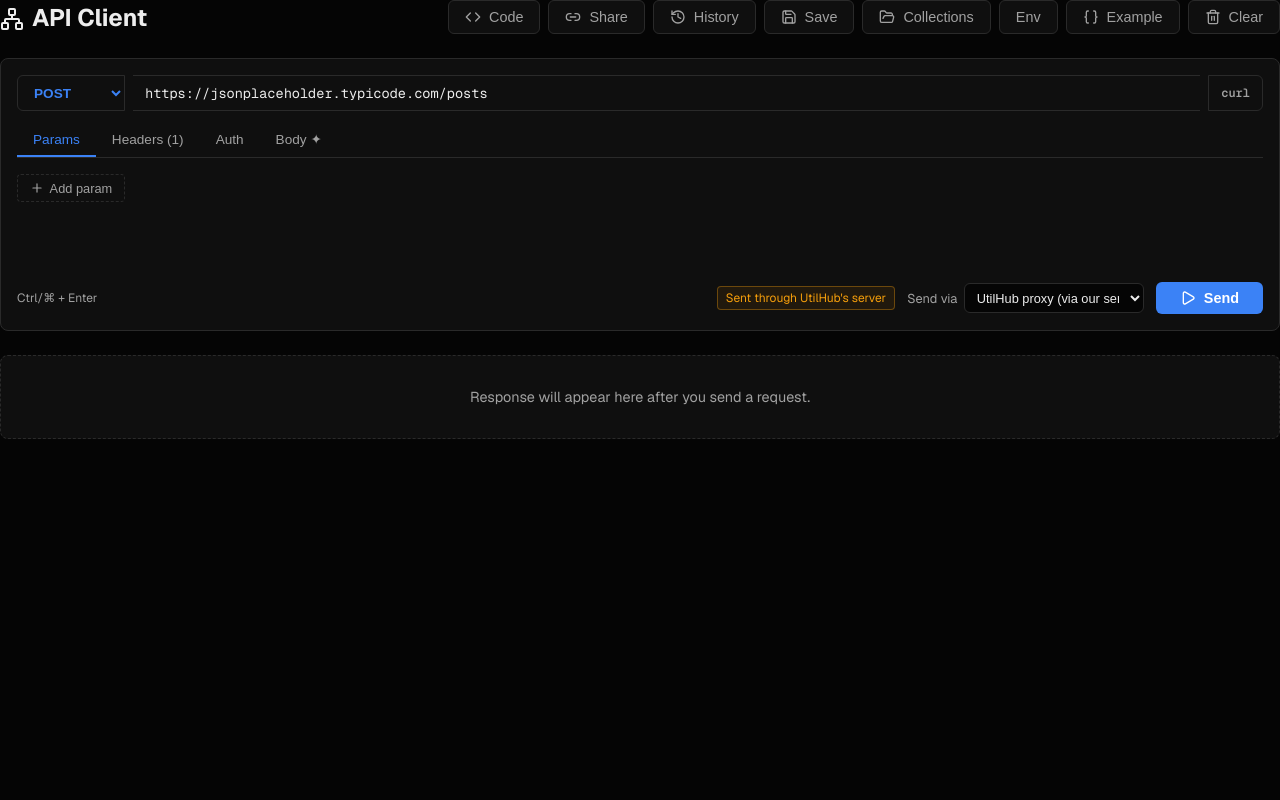
CurlTester › saves named request to Saved list
Click the button titled "Save request": point(809, 17) [764, 0, 854, 34]
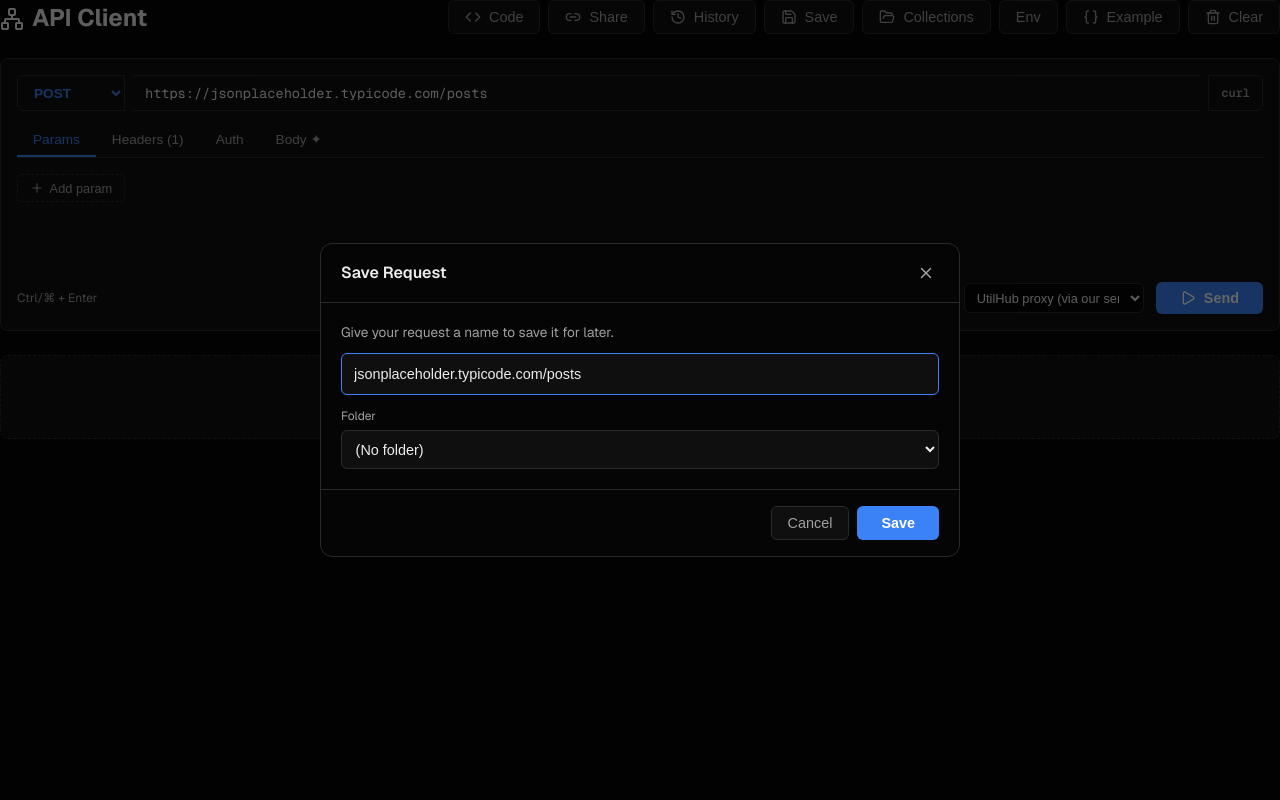
Expected: the heading "Save Request" is shown, [341, 262, 447, 283]
Replace the text in the field with placeholder "Request name" with "My API call": point(640, 374) [341, 353, 939, 395]
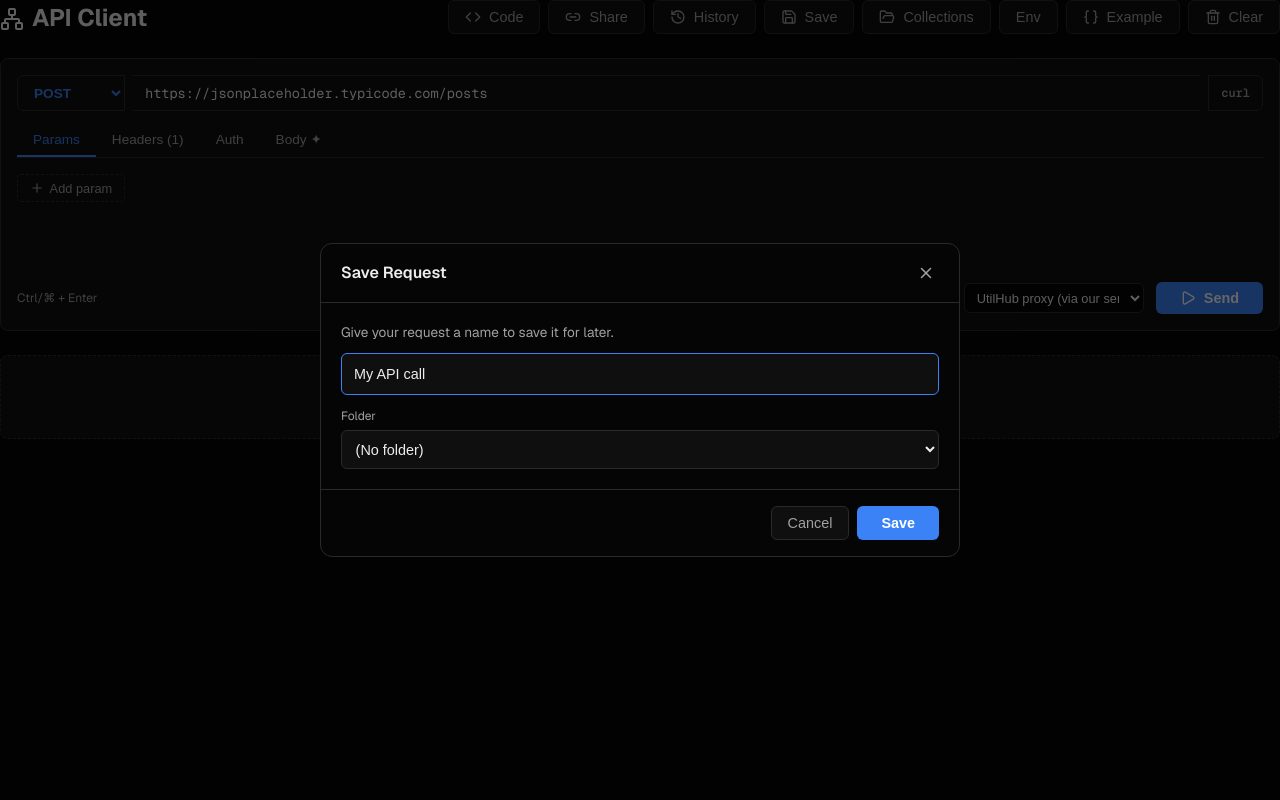
Expected: the button "Save" is shown
Click the button "Save": point(898, 523) [857, 506, 939, 540]
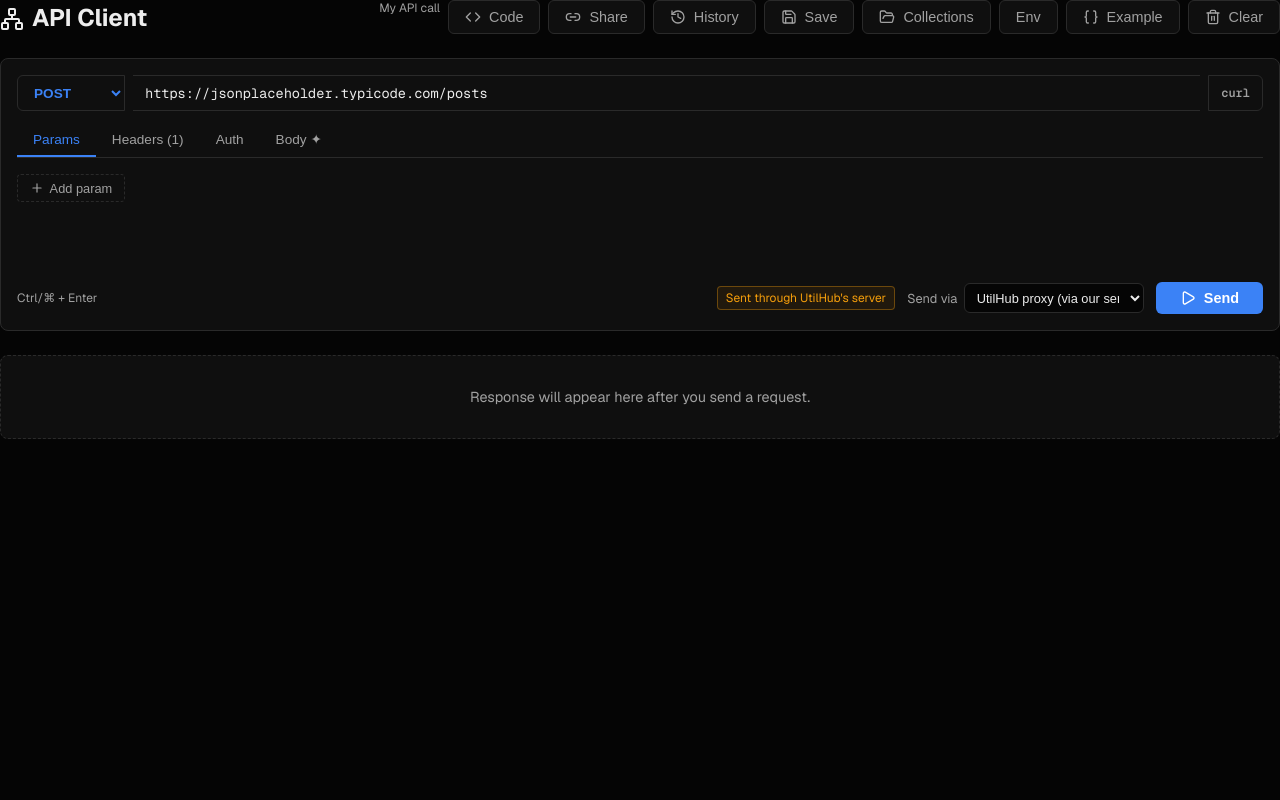
Click the button titled "Saved requests": point(927, 17) [862, 0, 991, 34]
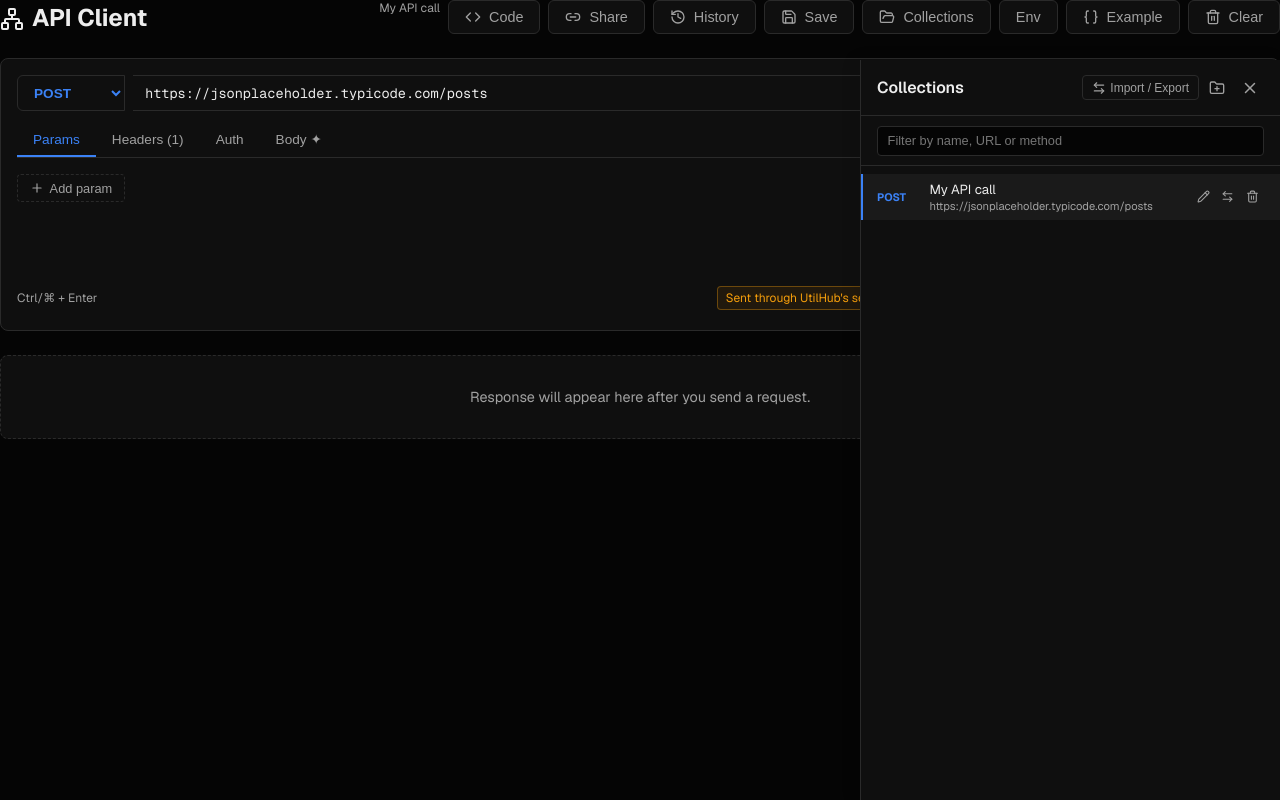
Expected: the text "My API call" is shown, [929, 180, 996, 198]
